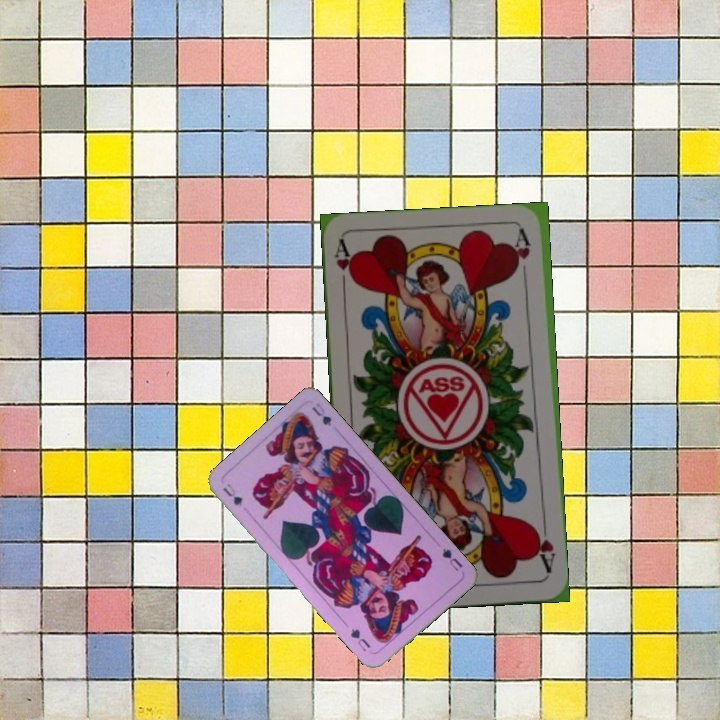GU: (438, 544, 466, 574), (218, 479, 245, 509)
HA: (530, 517, 558, 576), (330, 238, 358, 297)
